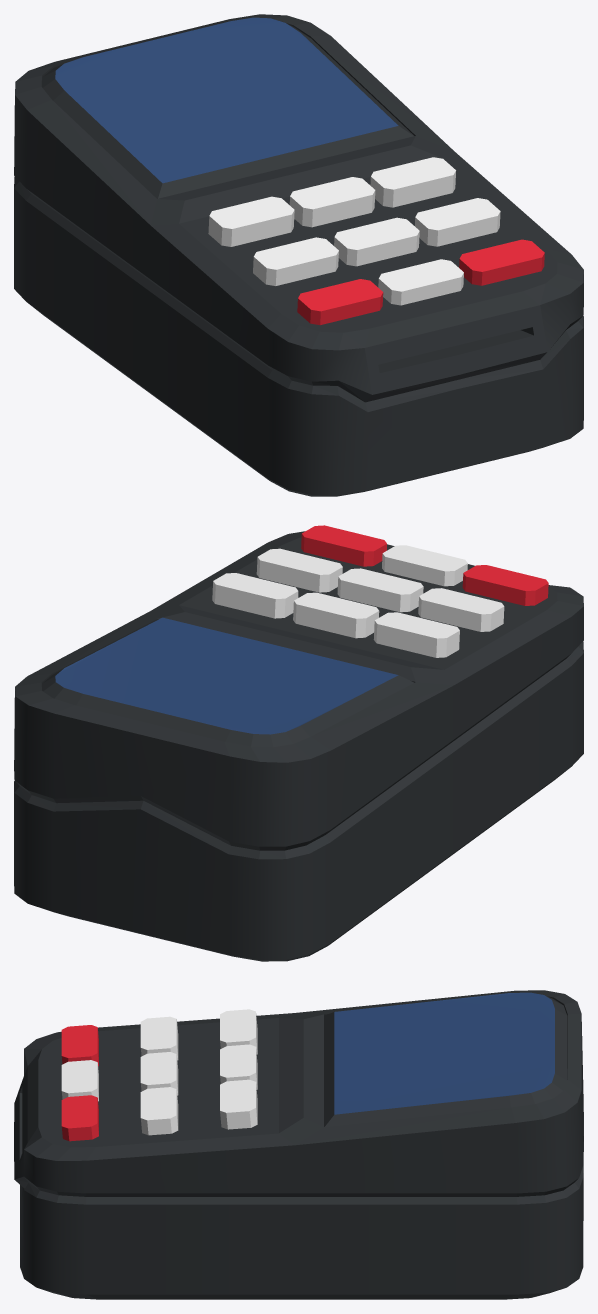
Rendered from SM_device_card.fbx.
3 views of the same model, one above another, from view 1: azimuth 30°, elevation 25°; view 2: azimuth 150°, elevation 25°; view 3: azimuth 270°, elevation 25° (orthographic). The views are drawn at different scales.
Parts seen in each view (by area): view 1: device_card; view 2: device_card; view 3: device_card.
Boxes of the visible parts, left/top/right/bottom form: device_card: left=14, top=14, right=583, bottom=496; device_card: left=14, top=525, right=583, bottom=961; device_card: left=14, top=990, right=583, bottom=1299.
Bounding box in the file's own units: 25.94 × 17.99 × 47.23.
